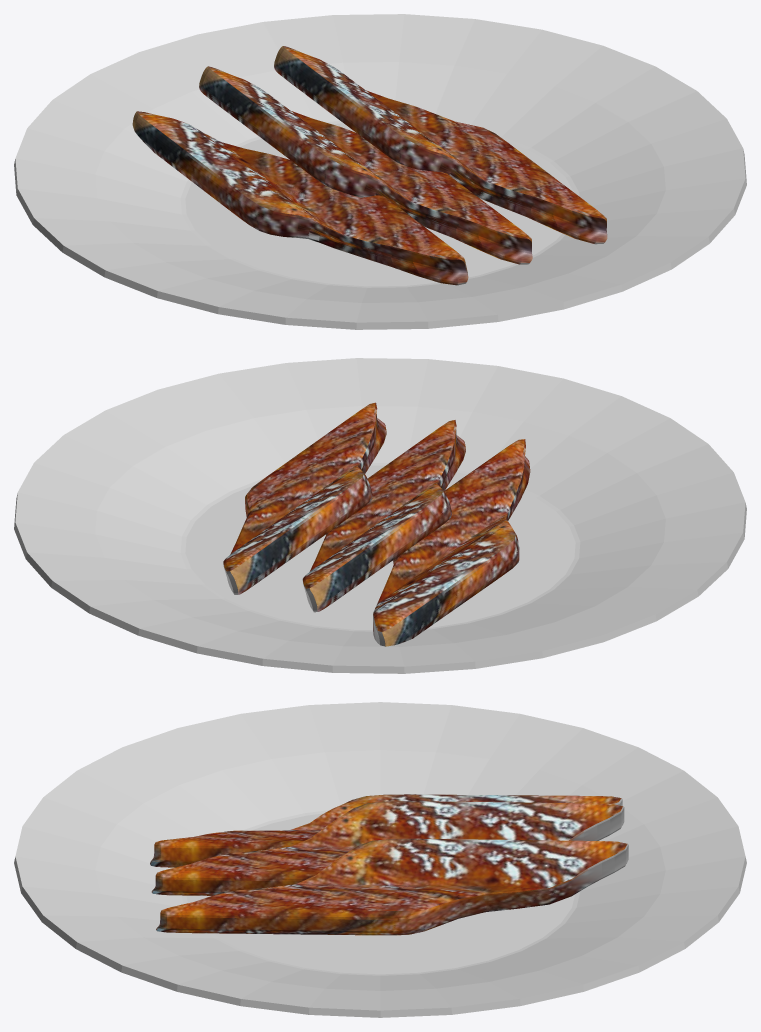
The model's file is grilled_trimmed_eel.fbx.
The picture shows the model from 3 angles, top to bottom: view 1: azimuth 30°, elevation 25°; view 2: azimuth 150°, elevation 25°; view 3: azimuth 270°, elevation 25°; orthographic projection.
Visible parts, largest first — view 1: 재료접시.001, 장어; view 2: 재료접시.001, 장어; view 3: 재료접시.001, 장어.
Boxes of the visible parts, bbox=[...] form: 재료접시.001: bbox=[14, 14, 746, 329]; 장어: bbox=[132, 46, 607, 285]; 재료접시.001: bbox=[14, 358, 746, 673]; 장어: bbox=[223, 402, 530, 646]; 재료접시.001: bbox=[14, 702, 746, 1017]; 장어: bbox=[150, 794, 628, 935].
Bounding box in the file's own units: 293 × 36.05 × 293.
